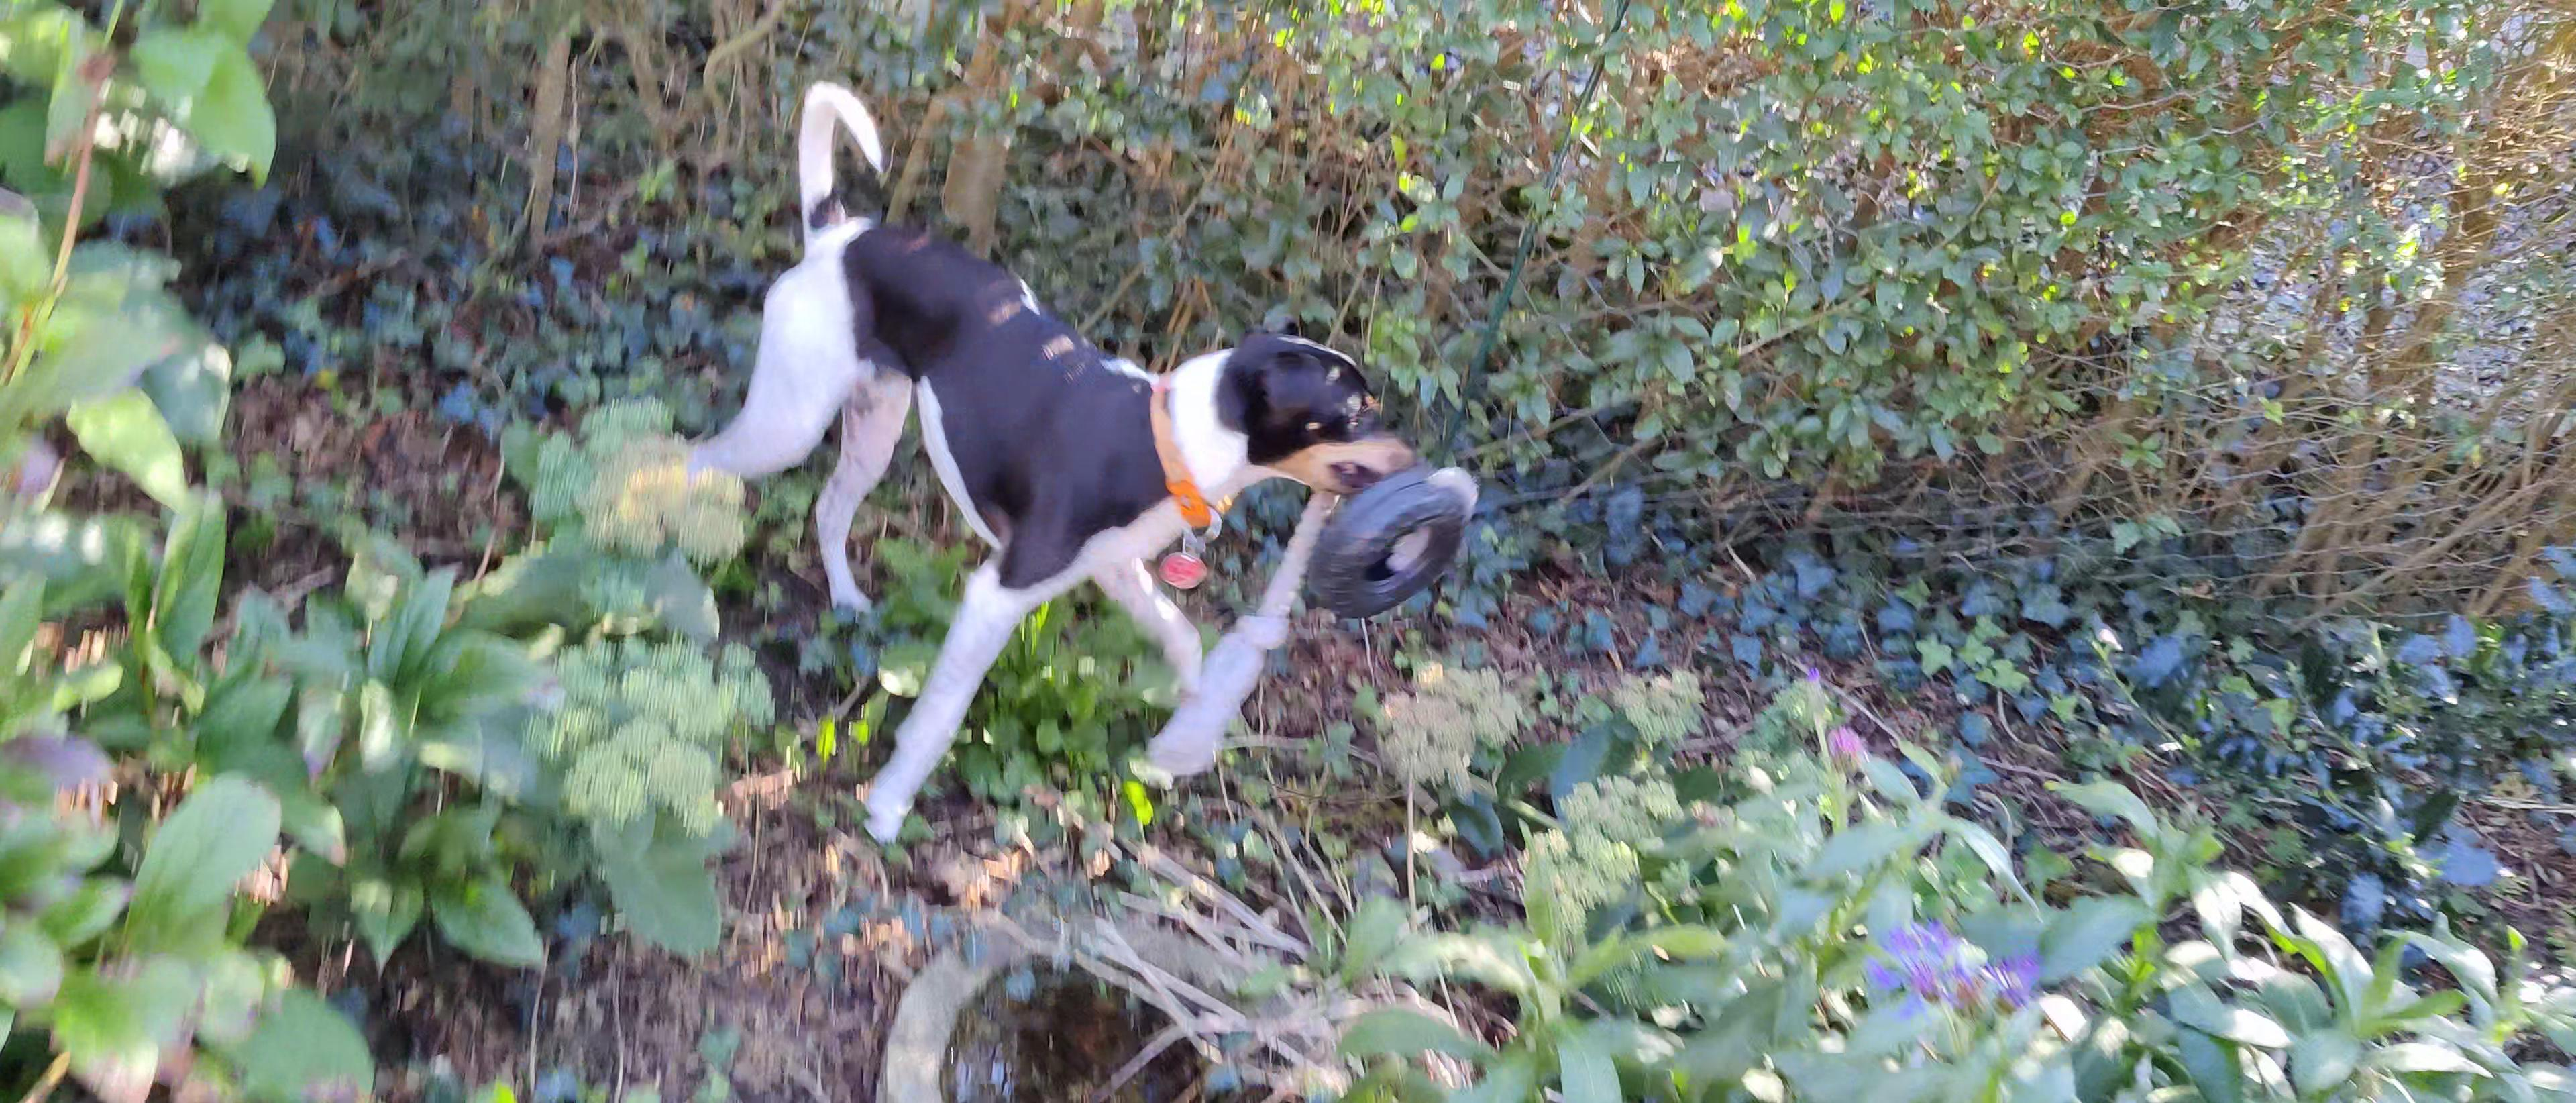Dog: (670, 72, 1429, 845)
